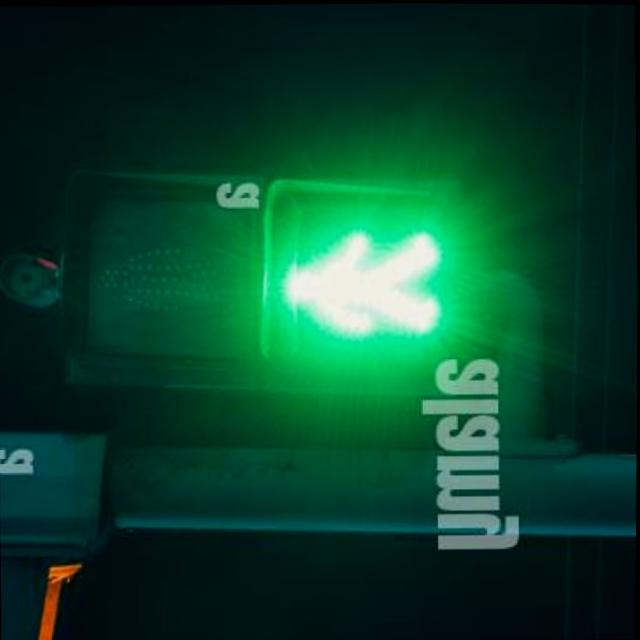green_light: (268, 207, 451, 350)
